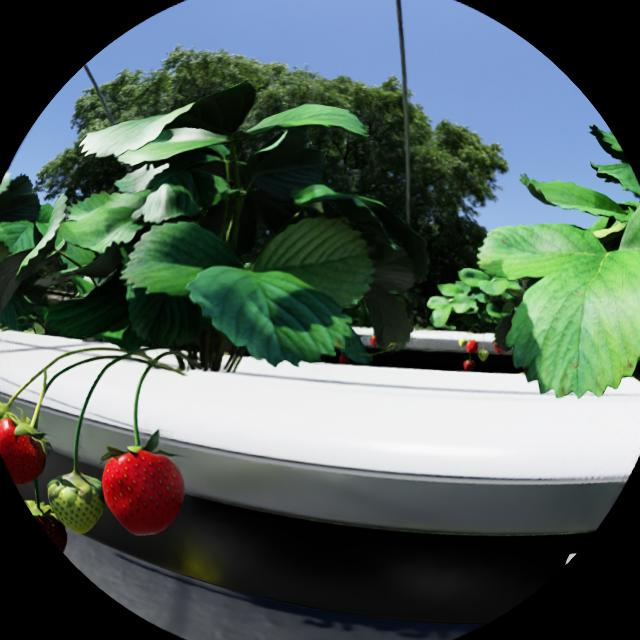Fruit-Stem-Detection: (74, 360, 113, 473), (135, 363, 151, 446), (30, 369, 46, 428)
